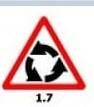road_sign: (1, 14, 87, 91)
